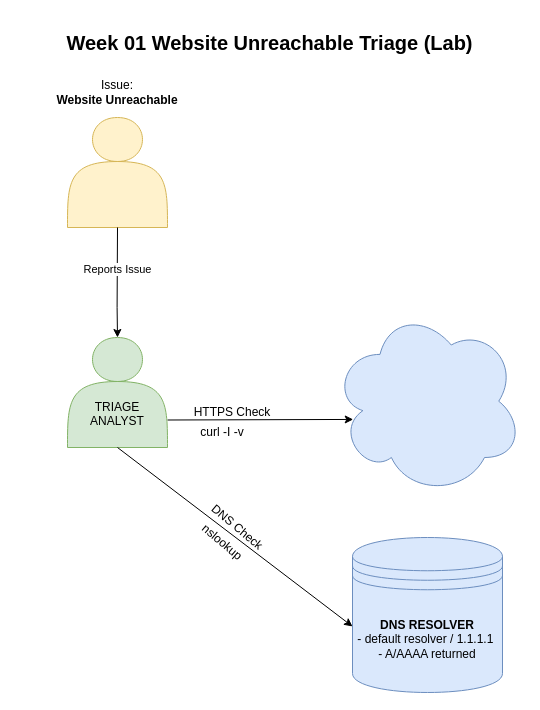
This 540x710 diagram has some shape labels left out. The centre of each missing label's shape, as x and y in pixels:
CLIENT/USER: (x=117, y=172)
WEB SERVER / HTTPS Endpoint - TLS Verify OK - HTTPS 200: (x=427, y=400)
